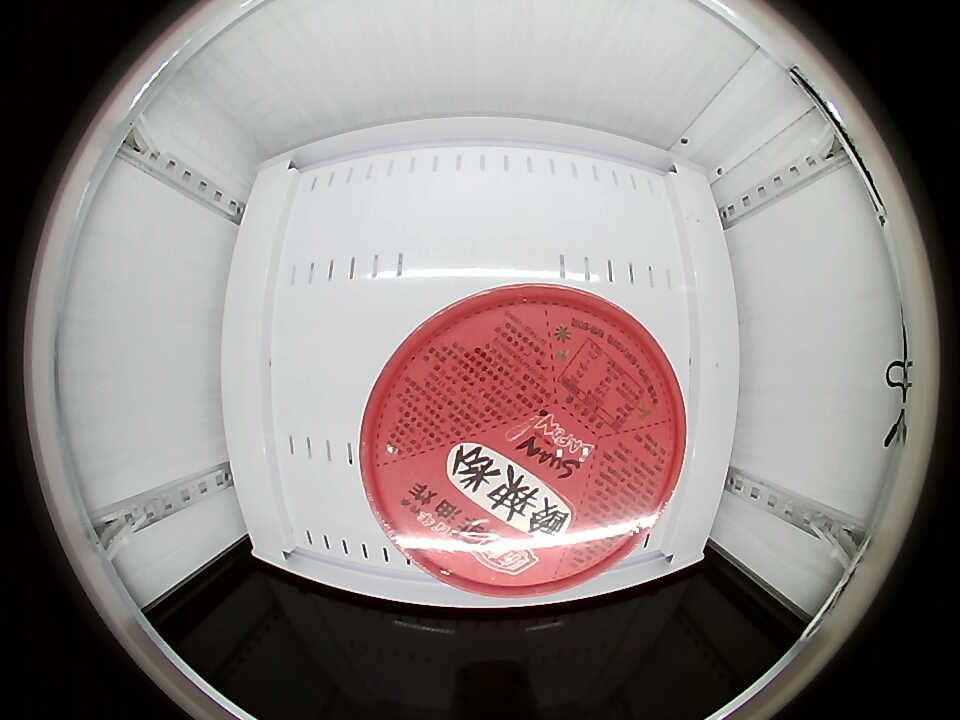suanlafen: (358, 284, 688, 596)
